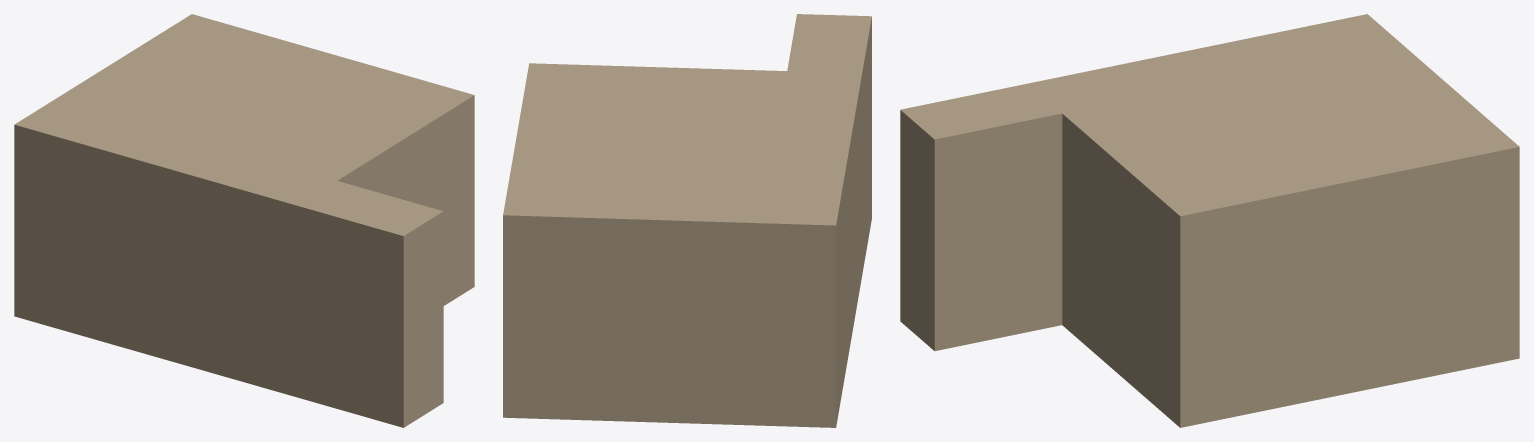
Rendered from bld_107610494.dae.
3 views of the same model, side by side, from view 1: azimuth 30°, elevation 25°; view 2: azimuth 150°, elevation 25°; view 3: azimuth 270°, elevation 25° (orthographic). The views are drawn at different scales.
Parts seen in each view (by area): view 1: bld_107610494; view 2: bld_107610494; view 3: bld_107610494.
Part boxes in pixels (left/top/right/bottom): bld_107610494: left=14, top=14, right=474, bottom=427; bld_107610494: left=503, top=14, right=871, bottom=427; bld_107610494: left=900, top=14, right=1519, bottom=427.
Bounding box in the file's own units: 16.4 × 21.22 × 8.
